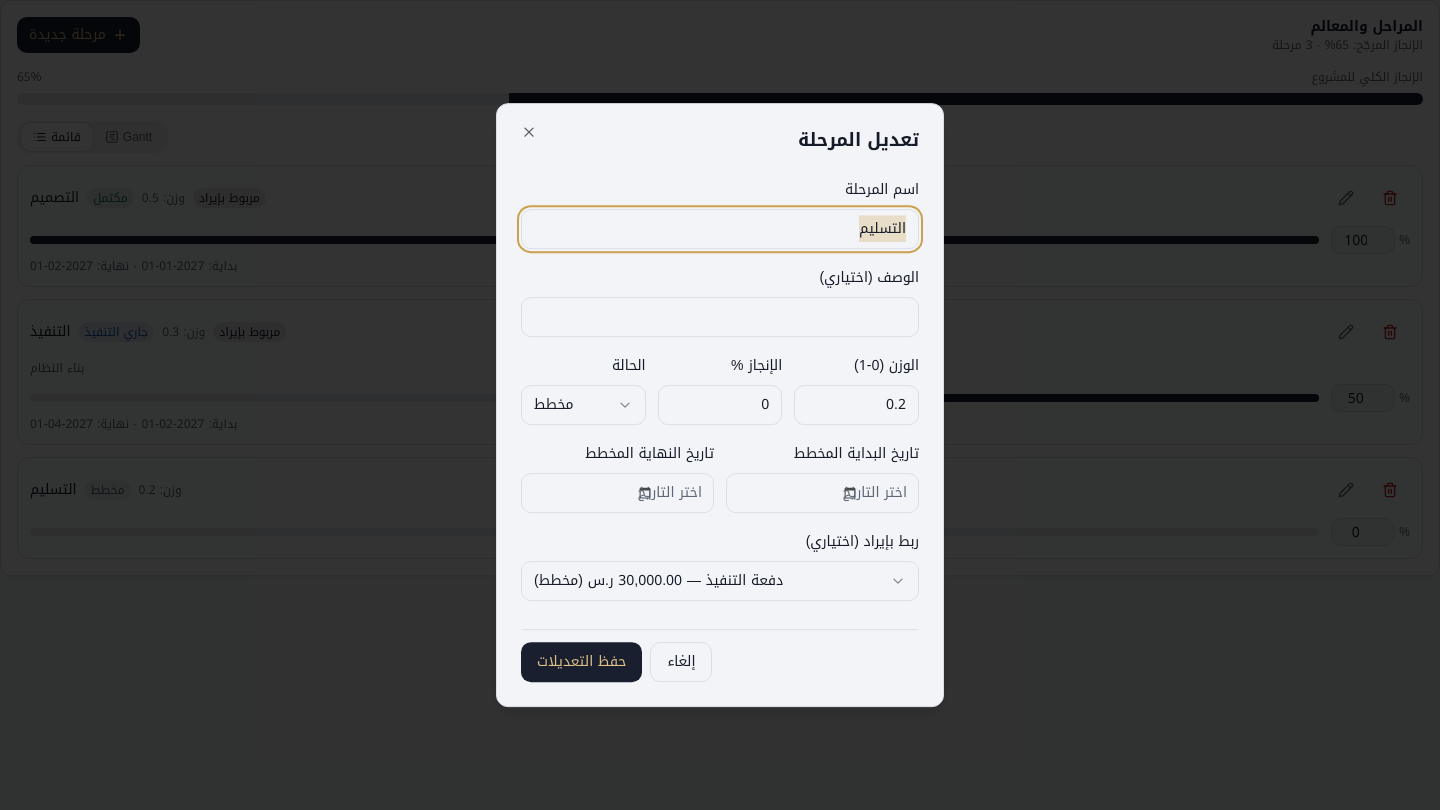
editing a milestone › offers the invoice when the link and the completion arrive in the same edit
This screenshot has width=1440, height=810.
Earlier steps of the test are not shown.
Replace the text in the number field labelled "الإنجاز %" with "100": x=720, y=405 [658,385,782,425]
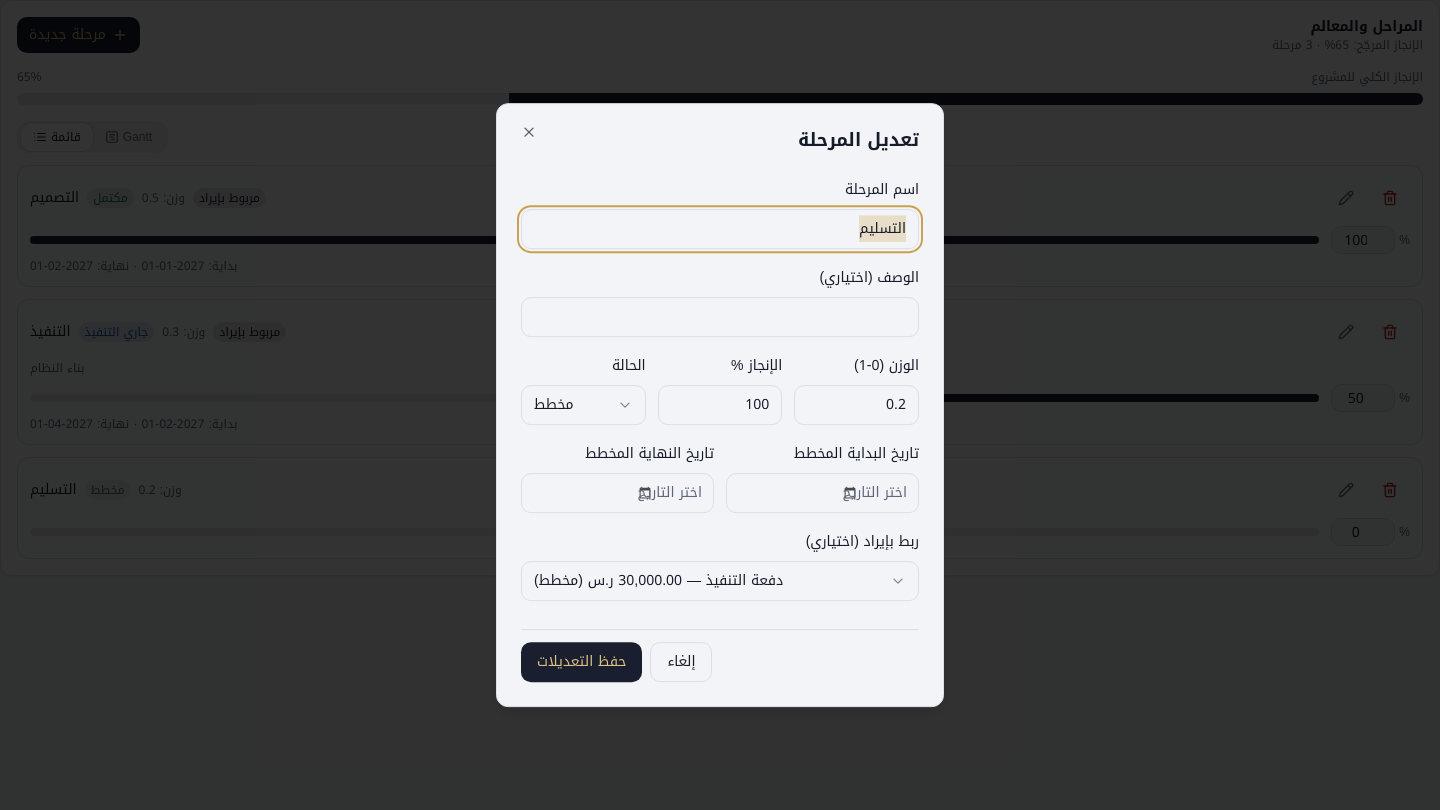
Click the button "حفظ التعديلات": x=582, y=662 [521,642,642,682]
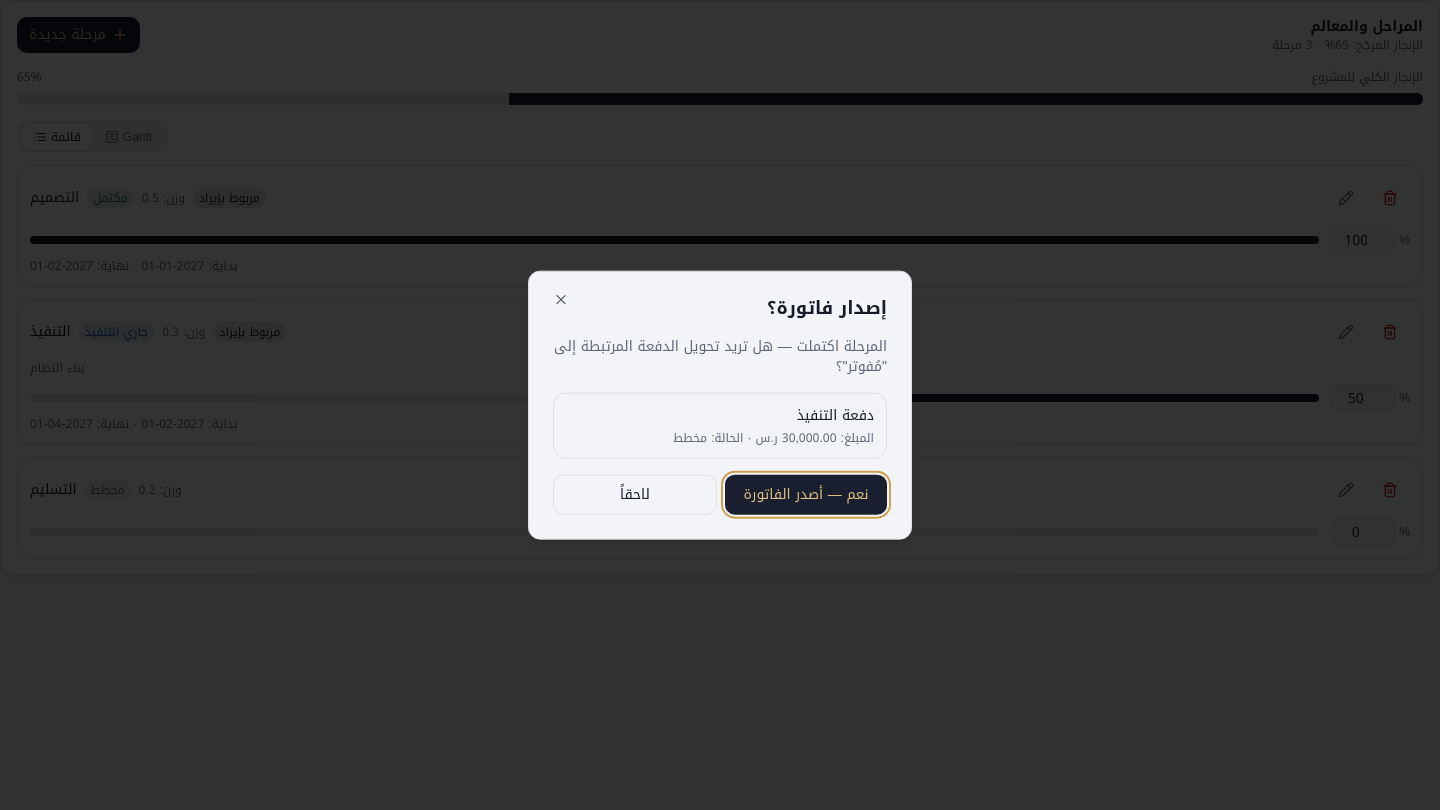
Now the heading "إصدار فاتورة؟" is shown, box [767,291,887,325]
